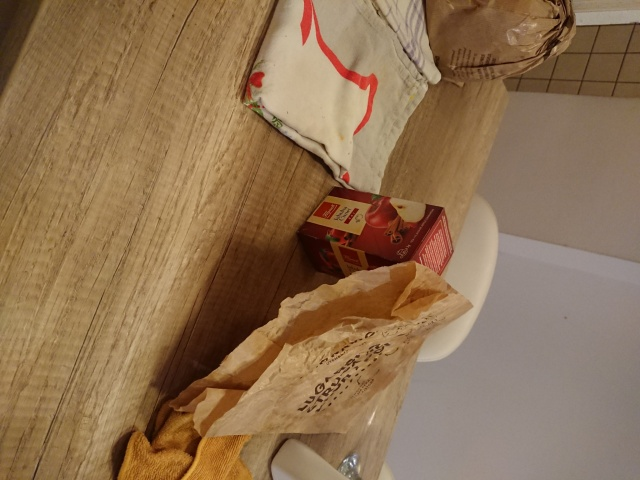Franck Apple Cinnamon Tea 60g: (293, 182, 457, 301)
